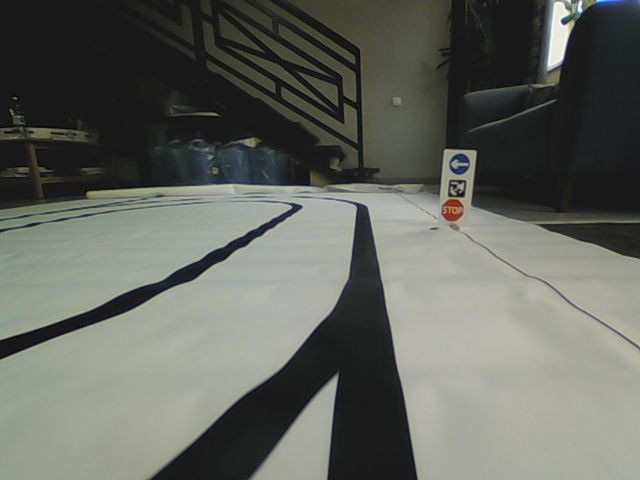Stop: (441, 198, 465, 222)
